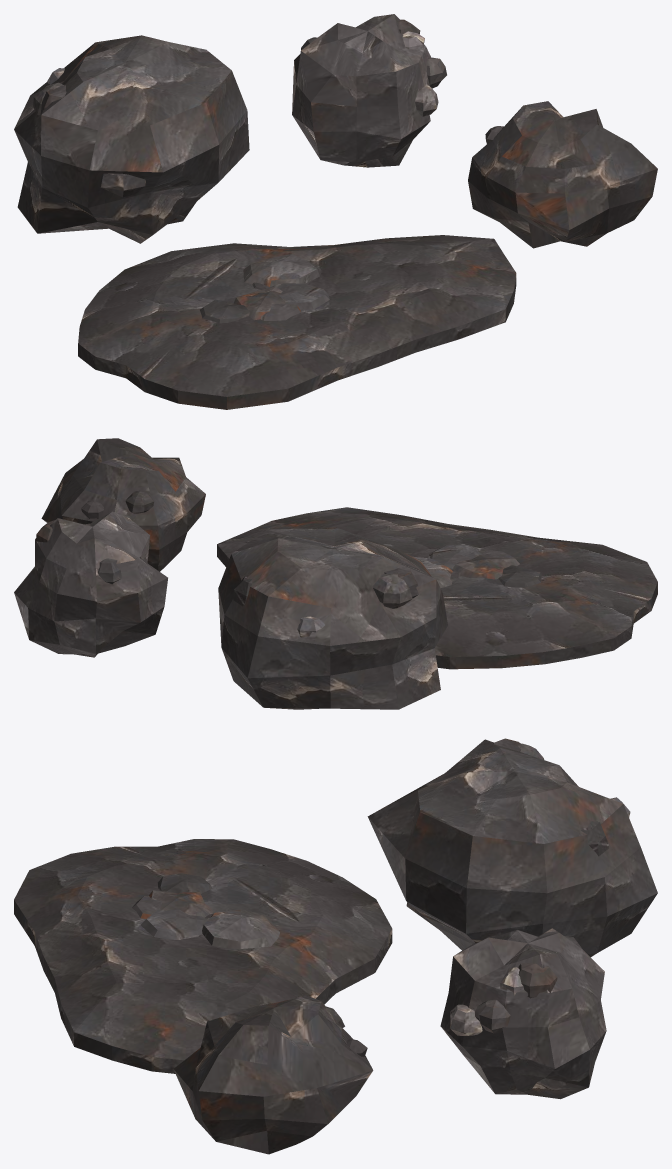
File: junk_slag.glb
3 views of the same model, one above another, from view 1: azimuth 30°, elevation 25°; view 2: azimuth 150°, elevation 25°; view 3: azimuth 270°, elevation 25° (orthographic). The views are drawn at different scales.
Parts seen in each view (by area): view 1: model; view 2: model; view 3: model.
Part boxes in pixels (x1,y1,x2,y2): model: (14,14,657,409); model: (14,438,657,709); model: (14,738,657,1154).
Size of the model in its own units: 0.5491 by 0.1592 by 0.4826.
Materials: 3 (3 with a texture image).
